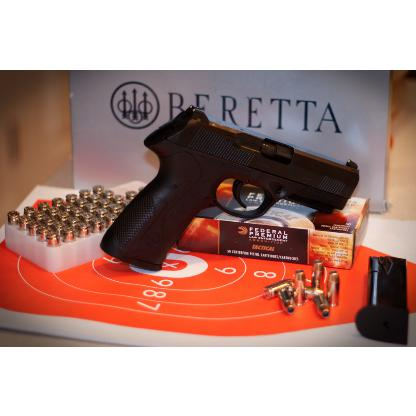gun: (99, 104, 360, 270)
